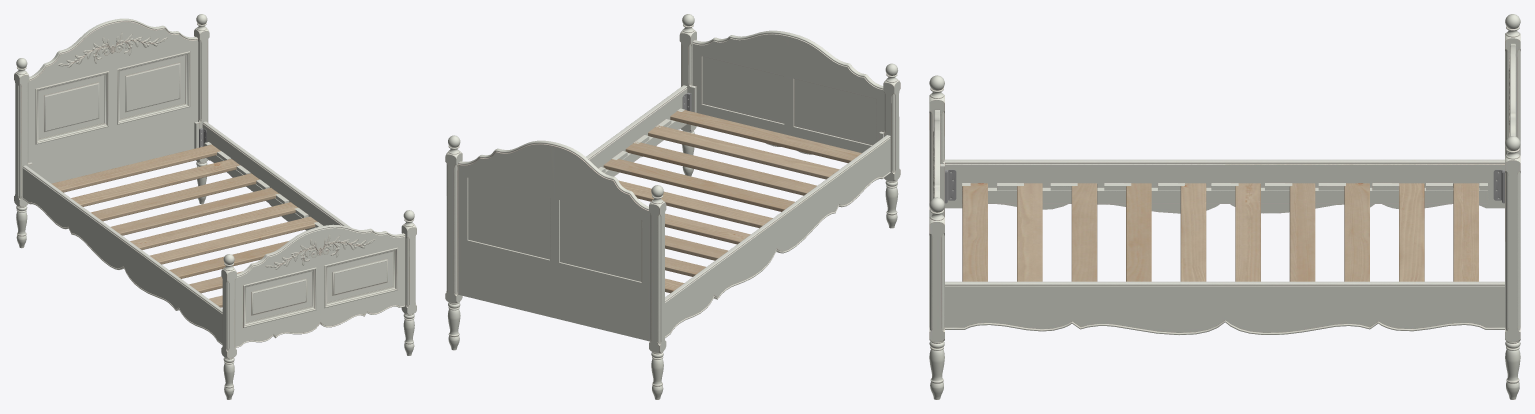
Rendered from example151.glb.
3 renders of one model, left to right at view 1: azimuth 30°, elevation 25°; view 2: azimuth 150°, elevation 25°; view 3: azimuth 270°, elevation 25°, orthographic. The views are drawn at different scales.
Visible parts, largest first — view 1: PPL5.paint, PPL5.natwood; view 2: PPL5.paint, PPL5.natwood; view 3: PPL5.paint, PPL5.natwood, PPL5.metal.
Part boxes in pixels (box(x1,y1,x2,y2)): PPL5.paint: box(14, 14, 416, 399); PPL5.natwood: box(51, 144, 317, 307); PPL5.paint: box(445, 14, 900, 399); PPL5.natwood: box(603, 110, 861, 293); PPL5.paint: box(929, 14, 1520, 399); PPL5.natwood: box(962, 183, 1478, 281); PPL5.metal: box(945, 169, 1504, 203).
Bounding box in the file's own units: 1.28 × 1.31 × 2.48.
3 materials, 2 textured.
